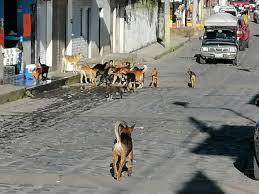normal_dogs: (112, 122, 140, 180), (58, 47, 82, 70), (104, 85, 133, 103), (118, 73, 146, 91), (36, 56, 54, 80), (127, 64, 146, 86), (148, 66, 164, 88), (30, 65, 44, 88), (109, 68, 130, 83), (186, 69, 199, 92), (82, 63, 94, 86), (93, 57, 107, 76), (97, 66, 112, 78), (114, 59, 130, 68)
